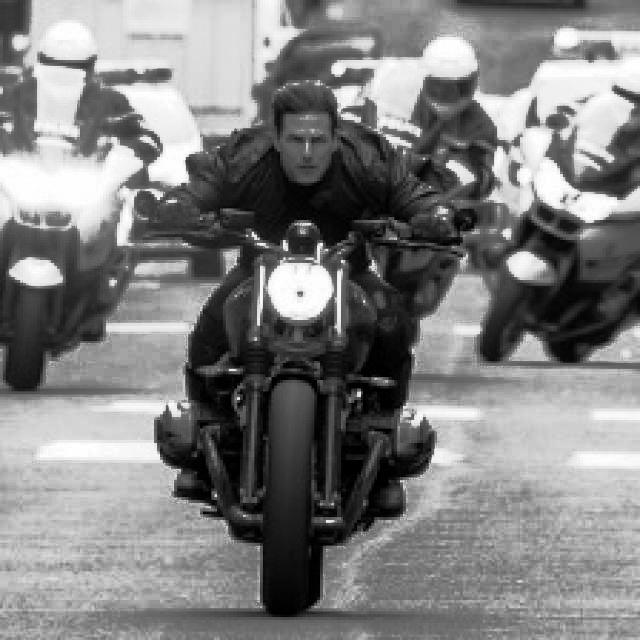Bike: (179, 210, 422, 630), (10, 122, 145, 382), (512, 120, 638, 374)
